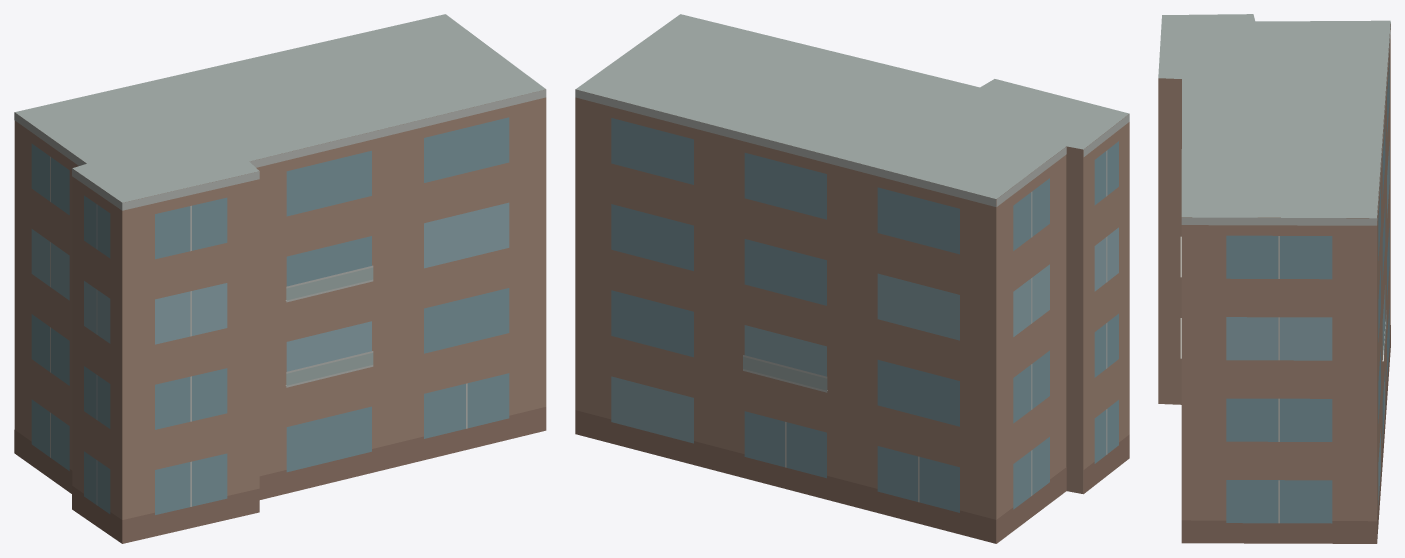
Rendered from survey-upis-32962895.glb.
3 renders of one model, left to right at view 1: azimuth 30°, elevation 25°; view 2: azimuth 150°, elevation 25°; view 3: azimuth 270°, elevation 25°, orthographic. The views are drawn at different scales.
Visible parts, largest first — view 1: survey-upis-32962895.tmp; view 2: survey-upis-32962895.tmp; view 3: survey-upis-32962895.tmp.
Part boxes in pixels (<box>): survey-upis-32962895.tmp: <box>14,14,546,543</box>; survey-upis-32962895.tmp: <box>575,14,1129,543</box>; survey-upis-32962895.tmp: <box>1158,14,1390,543</box>.
Bounding box in the file's own units: 13.99 × 10.4 × 6.74.
